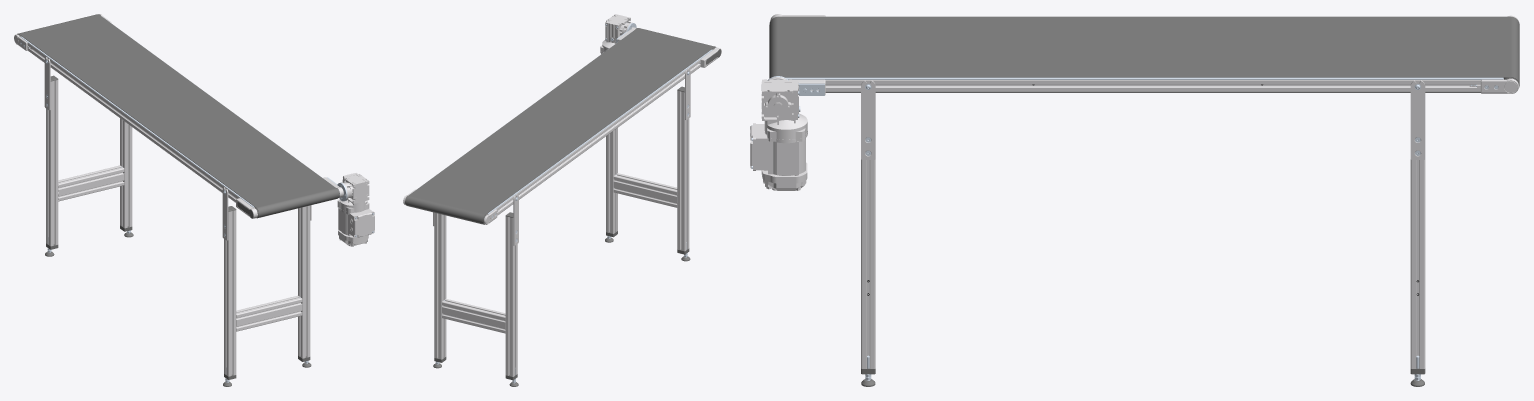
The model's file is belt-conveyor.glb.
3 views of the same model, side by side, from view 1: azimuth 30°, elevation 25°; view 2: azimuth 150°, elevation 25°; view 3: azimuth 270°, elevation 25° (orthographic). The views are drawn at different scales.
Parts seen in each view (by area): view 1: item_0070644_Transportband PVC, staufähig -400_A=2000_1-1, LEG SUPPORT^item_2050fada0a314c7f92e95b6c2d77c2c31(2)-1, LEG SUPPORT^item_2050fada0a314c7f92e95b6c2d77c2c31(2)-2, item_2050fada0a314c7f92e95b6c2d77c2c31(2), item_0070544_Motor AC D16-180W-i6_1-1, item_0071639_Schwenkplattensatz 8 40_3-1 (×2), item_0070272_Antriebsbeschlagsatz 8 40_A=0_EL=1_A=1_1-1; view 2: item_0070644_Transportband PVC, staufähig -400_A=2000_1-1, LEG SUPPORT^item_2050fada0a314c7f92e95b6c2d77c2c31(2)-2, LEG SUPPORT^item_2050fada0a314c7f92e95b6c2d77c2c31(2)-1, item_2050fada0a314c7f92e95b6c2d77c2c31(2), item_0070544_Motor AC D16-180W-i6_1-1, item_0071639_Schwenkplattensatz 8 40_3-1 (×2), item_0070272_Antriebsbeschlagsatz 8 40_A=0_EL=1_A=1_1-1; view 3: item_0070644_Transportband PVC, staufähig -400_A=2000_1-1, item_2050fada0a314c7f92e95b6c2d77c2c31(2), item_0070544_Motor AC D16-180W-i6_1-1, LEG SUPPORT^item_2050fada0a314c7f92e95b6c2d77c2c31(2)-2, LEG SUPPORT^item_2050fada0a314c7f92e95b6c2d77c2c31(2)-1, item_0071639_Schwenkplattensatz 8 40_1-1 (×2).
Boxes of the visible parts, <box> form: item_0070644_Transportband PVC, staufähig -400_A=2000_1-1: <box>17,14,339,218</box>; LEG SUPPORT^item_2050fada0a314c7f92e95b6c2d77c2c31(2)-1: <box>224,205,310,376</box>; LEG SUPPORT^item_2050fada0a314c7f92e95b6c2d77c2c31(2)-2: <box>46,80,132,246</box>; item_2050fada0a314c7f92e95b6c2d77c2c31(2): <box>21,30,320,207</box>; item_0070544_Motor AC D16-180W-i6_1-1: <box>337,173,374,246</box>; item_0071639_Schwenkplattensatz 8 40_3-1 (×2): <box>44,57,228,240</box>; item_0070272_Antriebsbeschlagsatz 8 40_A=0_EL=1_A=1_1-1: <box>236,177,343,218</box>; item_0070644_Transportband PVC, staufähig -400_A=2000_1-1: <box>405,28,715,224</box>; LEG SUPPORT^item_2050fada0a314c7f92e95b6c2d77c2c31(2)-2: <box>434,212,517,376</box>; LEG SUPPORT^item_2050fada0a314c7f92e95b6c2d77c2c31(2)-1: <box>606,90,689,251</box>; item_2050fada0a314c7f92e95b6c2d77c2c31(2): <box>479,45,712,215</box>; item_0070544_Motor AC D16-180W-i6_1-1: <box>600,14,632,54</box>; item_0071639_Schwenkplattensatz 8 40_3-1 (×2): <box>513,68,690,245</box>; item_0070272_Antriebsbeschlagsatz 8 40_A=0_EL=1_A=1_1-1: <box>617,27,721,67</box>; item_0070644_Transportband PVC, staufähig -400_A=2000_1-1: <box>769,16,1519,92</box>; item_2050fada0a314c7f92e95b6c2d77c2c31(2): <box>786,77,1503,92</box>; item_0070544_Motor AC D16-180W-i6_1-1: <box>750,77,807,190</box>; LEG SUPPORT^item_2050fada0a314c7f92e95b6c2d77c2c31(2)-2: <box>1410,159,1425,368</box>; LEG SUPPORT^item_2050fada0a314c7f92e95b6c2d77c2c31(2)-1: <box>861,159,875,368</box>; item_0071639_Schwenkplattensatz 8 40_1-1 (×2): <box>861,80,1425,159</box>.
Bounding box in the file's own units: 0.5699 × 0.945 × 2.1.
